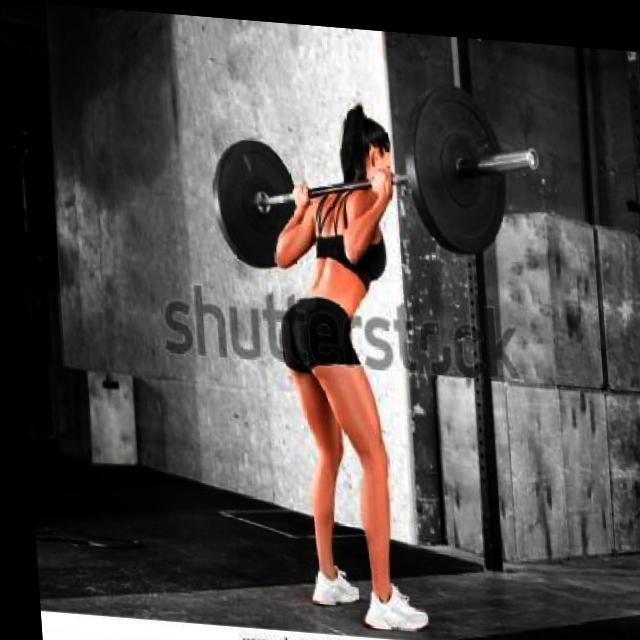barbell: (401, 76, 545, 256)
